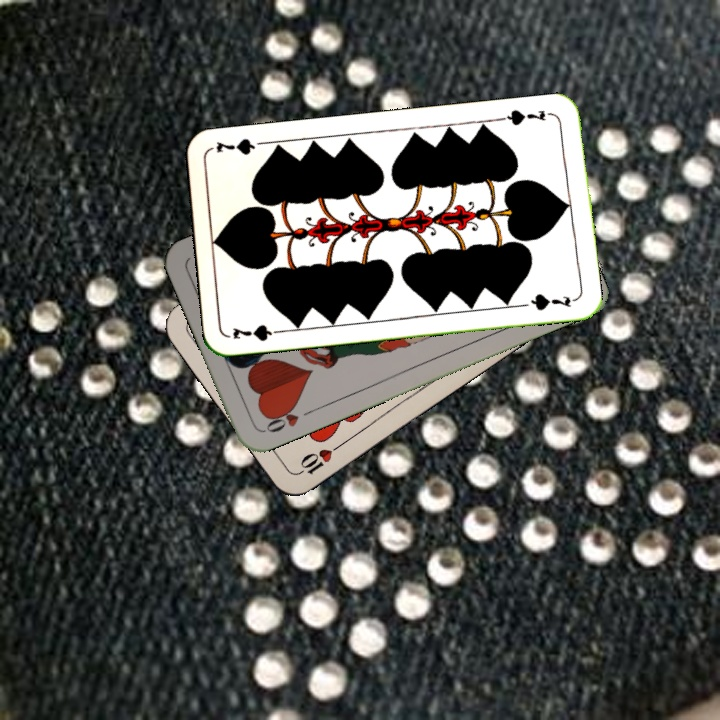G7: (228, 320, 287, 344), (497, 105, 557, 128)
H10: (292, 439, 344, 478)
HO: (260, 401, 317, 436)
